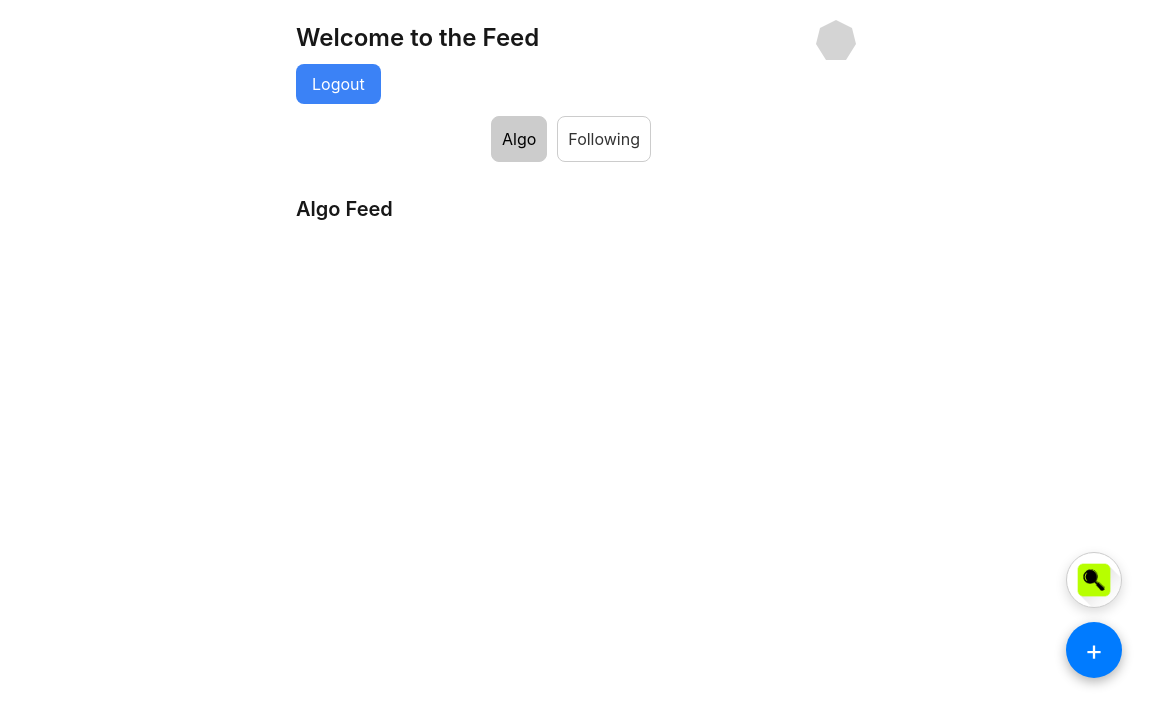
Test: Feed flow integration › logout clears token and hides composer
The width and height of the screenshot is (1152, 720).
What coordinates should you click on to do the following:
click the button "Logout"
I would click on:
 (338, 84)
Its box is 296,64 -> 381,104.
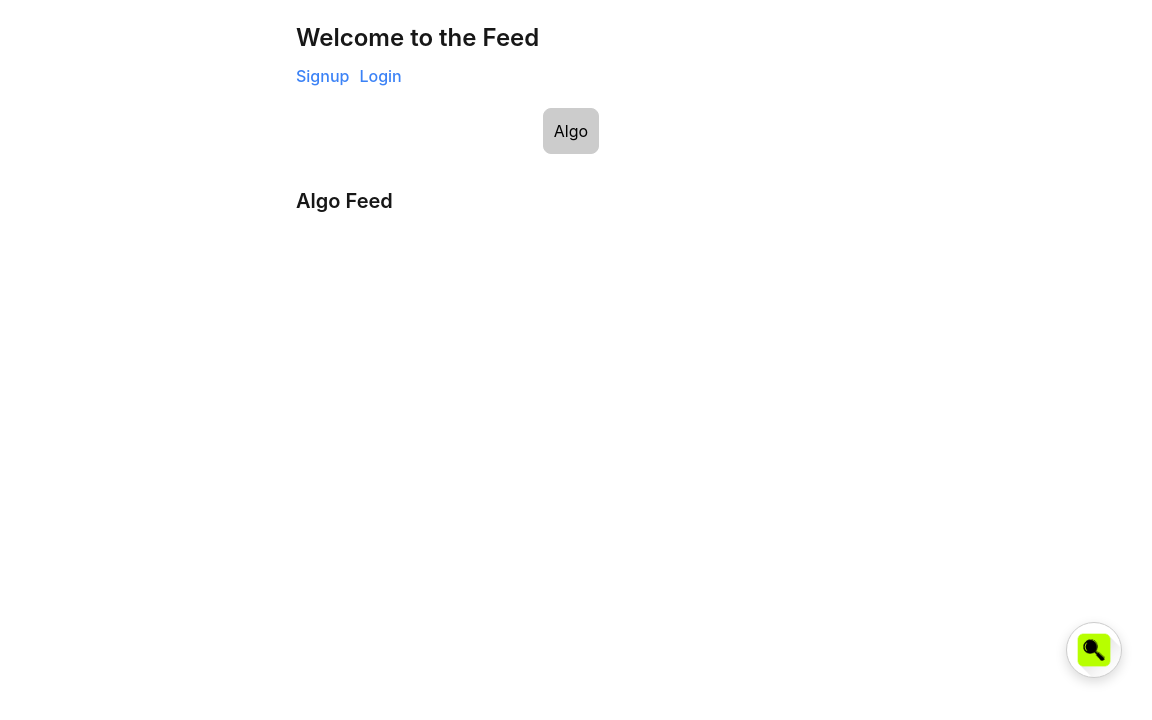
Now the link "Login" is shown, box 359,66 -> 402,86
